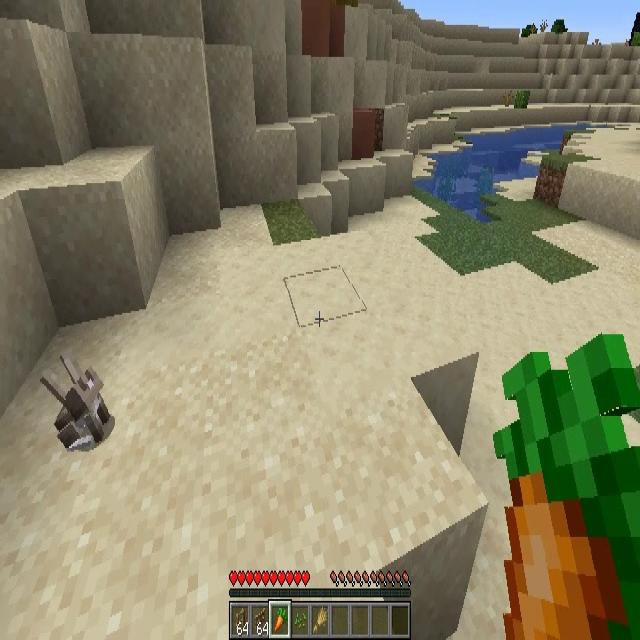rabbit: (40, 351, 112, 455)
